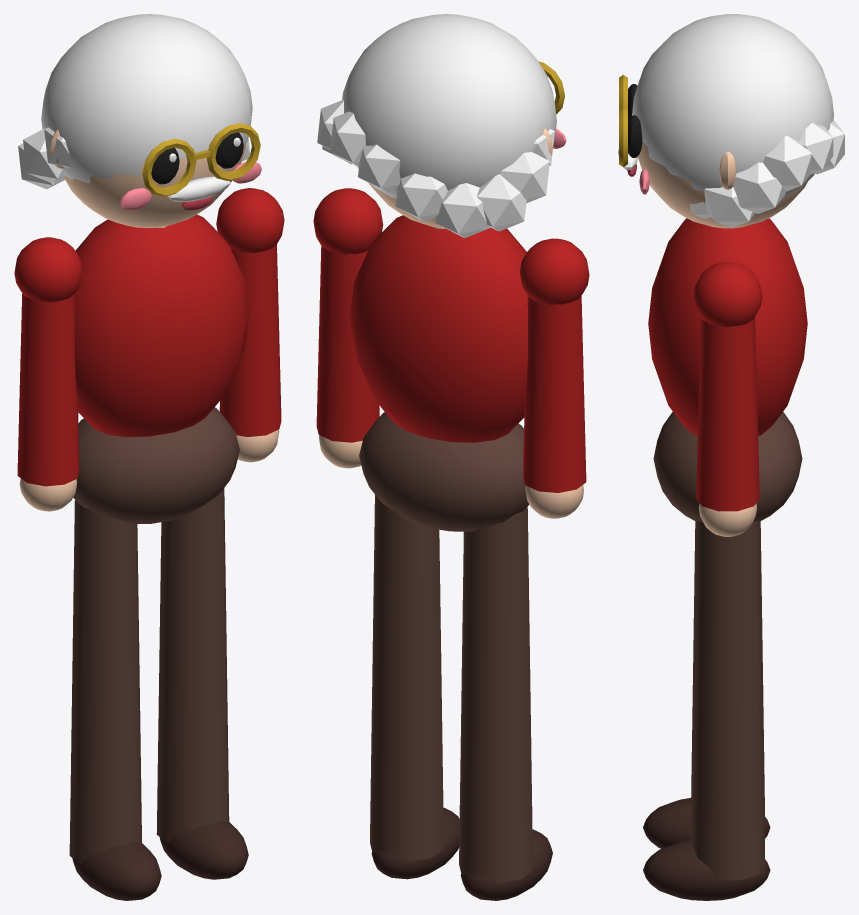
File: cameos_grandpa.glb
The picture shows the model from 3 angles, left to right: view 1: azimuth 30°, elevation 25°; view 2: azimuth 150°, elevation 25°; view 3: azimuth 270°, elevation 25°; orthographic projection. The views are drawn at different scales.
Visible parts, largest first — view 1: Body.009, Leg_R.009, Leg_L.009, Arm_R.009, Arm_L.009; view 2: Body.009, Leg_R.009, Leg_L.009, Arm_R.009, Arm_L.009; view 3: Body.009, Leg_L.009, Arm_L.009, Leg_R.009.
Boxes of the visible parts, <box> form: Body.009: <box>18,14,261,524</box>; Leg_R.009: <box>69,500,161,900</box>; Leg_L.009: <box>156,488,248,879</box>; Arm_R.009: <box>14,237,82,511</box>; Arm_L.009: <box>216,188,284,462</box>; Body.009: <box>317,14,566,531</box>; Leg_R.009: <box>459,507,552,900</box>; Leg_L.009: <box>370,495,459,879</box>; Arm_R.009: <box>519,238,589,518</box>; Arm_L.009: <box>313,188,383,468</box>; Body.009: <box>618,14,844,521</box>; Leg_L.009: <box>643,521,770,900</box>; Arm_L.009: <box>693,261,762,536</box>; Leg_R.009: <box>643,521,770,848</box>.
Bounding box in the file's own units: 0.57 × 1.77 × 0.4266.
